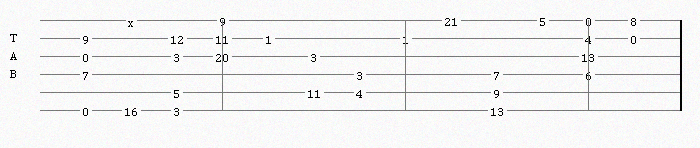0: (82, 50, 93, 62), (82, 104, 93, 116), (585, 14, 596, 26), (630, 32, 641, 44)
1: (265, 32, 276, 44), (402, 32, 413, 44)
11: (215, 32, 233, 44), (307, 86, 325, 98)
12: (170, 32, 188, 44)
13: (490, 104, 508, 116), (581, 50, 599, 62)
16: (124, 104, 142, 116)
20: (215, 50, 233, 62)
21: (444, 14, 462, 26)
3: (173, 50, 184, 62), (173, 104, 184, 116), (310, 50, 321, 62), (356, 68, 367, 80)
4: (356, 86, 367, 98), (585, 32, 596, 44)
5: (173, 86, 184, 98), (539, 14, 550, 26)
6: (585, 68, 596, 80)
7: (82, 68, 93, 80), (493, 68, 504, 80)
8: (630, 14, 641, 26)
9: (82, 32, 93, 44), (219, 14, 230, 26), (493, 86, 504, 98)
x: (128, 15, 138, 25)
